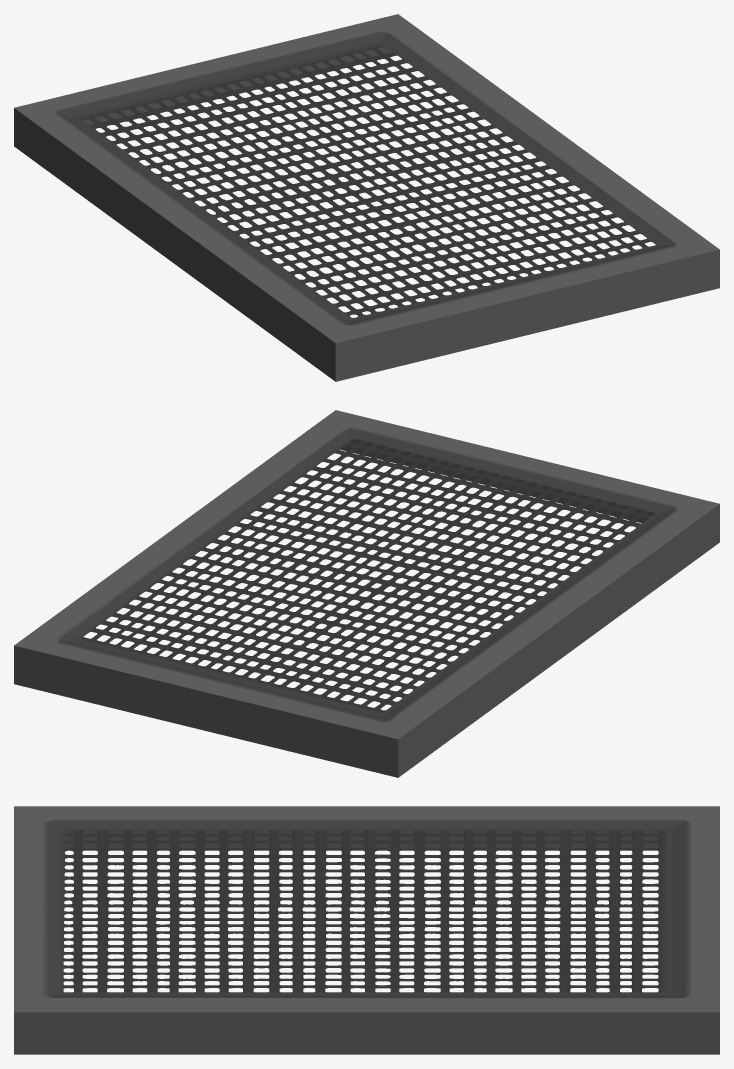
File: Plataforma Metal Der-Med.fbx
3 renders of one model, top to bottom at view 1: azimuth 30°, elevation 25°; view 2: azimuth 150°, elevation 25°; view 3: azimuth 270°, elevation 25°, orthographic. The views are drawn at different scales.
Parts seen in each view (by area): view 1: Plane.041; view 2: Plane.041; view 3: Plane.041.
Boxes of the visible parts, bbox=[...] form: Plane.041: bbox=[14, 14, 719, 381]; Plane.041: bbox=[14, 410, 719, 777]; Plane.041: bbox=[14, 806, 719, 1054].
Bounding box in the file's own units: 687 × 65.96 × 996.
